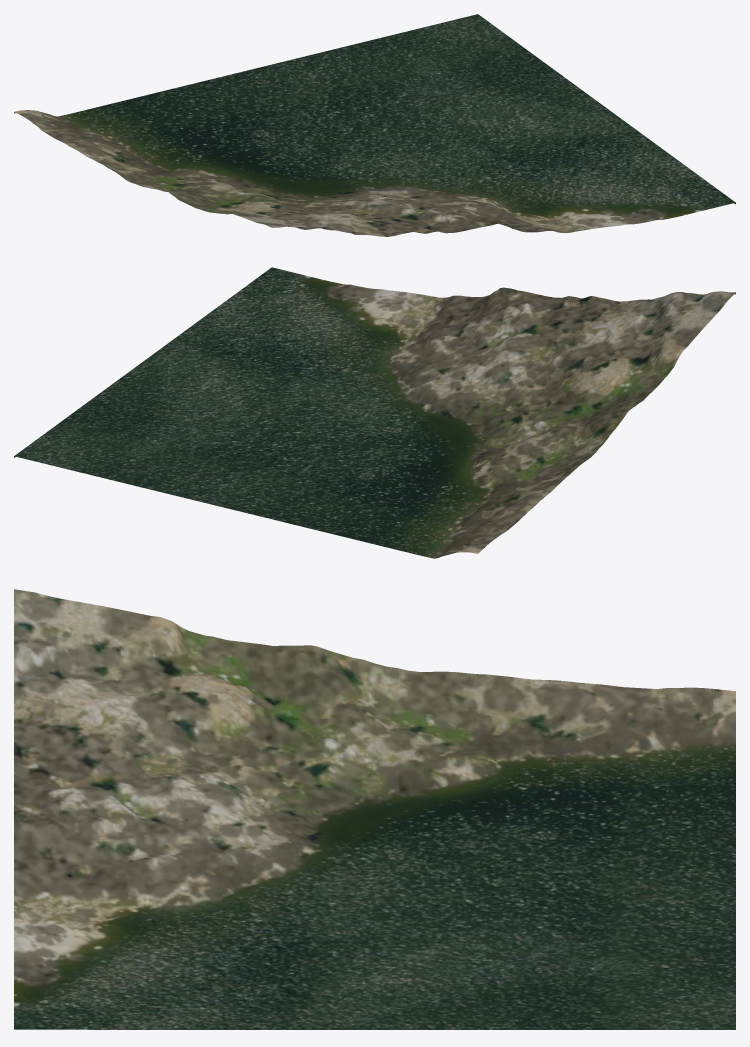
3 renders of one model, top to bottom at view 1: azimuth 30°, elevation 25°; view 2: azimuth 150°, elevation 25°; view 3: azimuth 270°, elevation 25°, orthographic. The views are drawn at different scales.
Size of the model in its own units: 250 by 46.66 by 241.
1 material, 1 textured.
